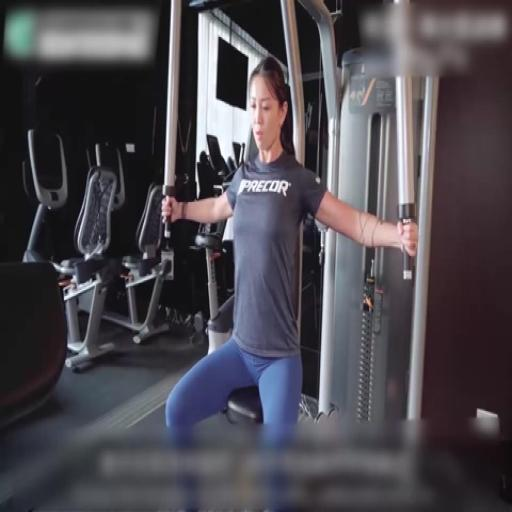exercise: (159, 55, 420, 444)
